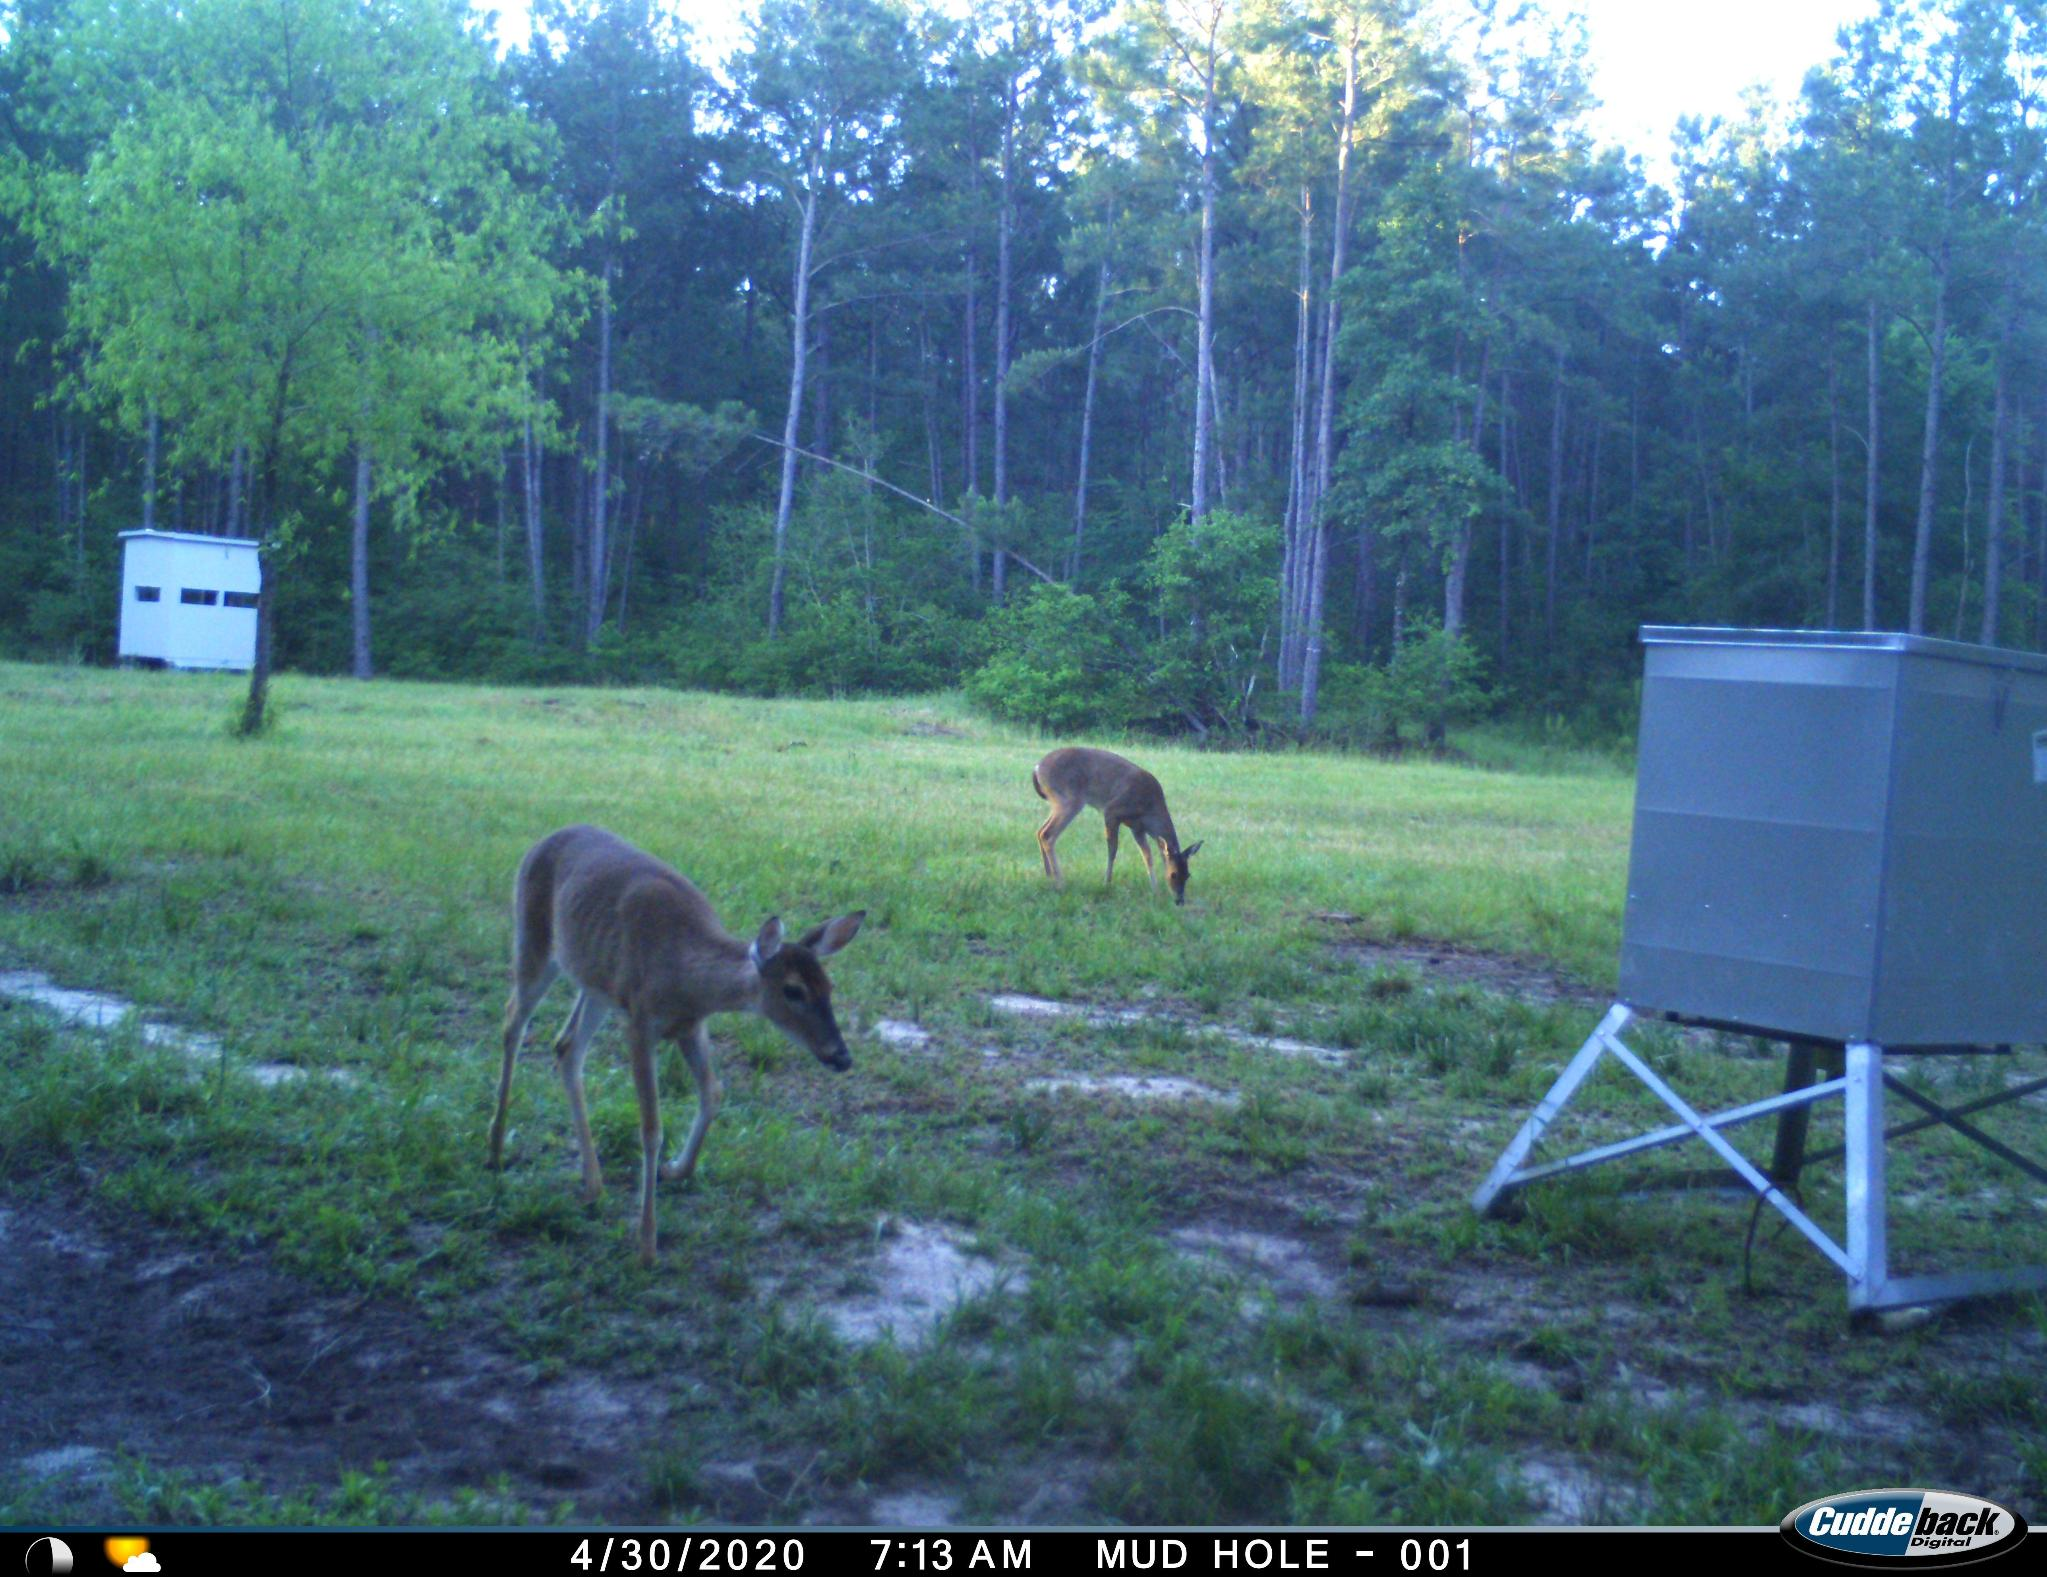Deer: (475, 815, 878, 1289), (1020, 740, 1211, 914)
